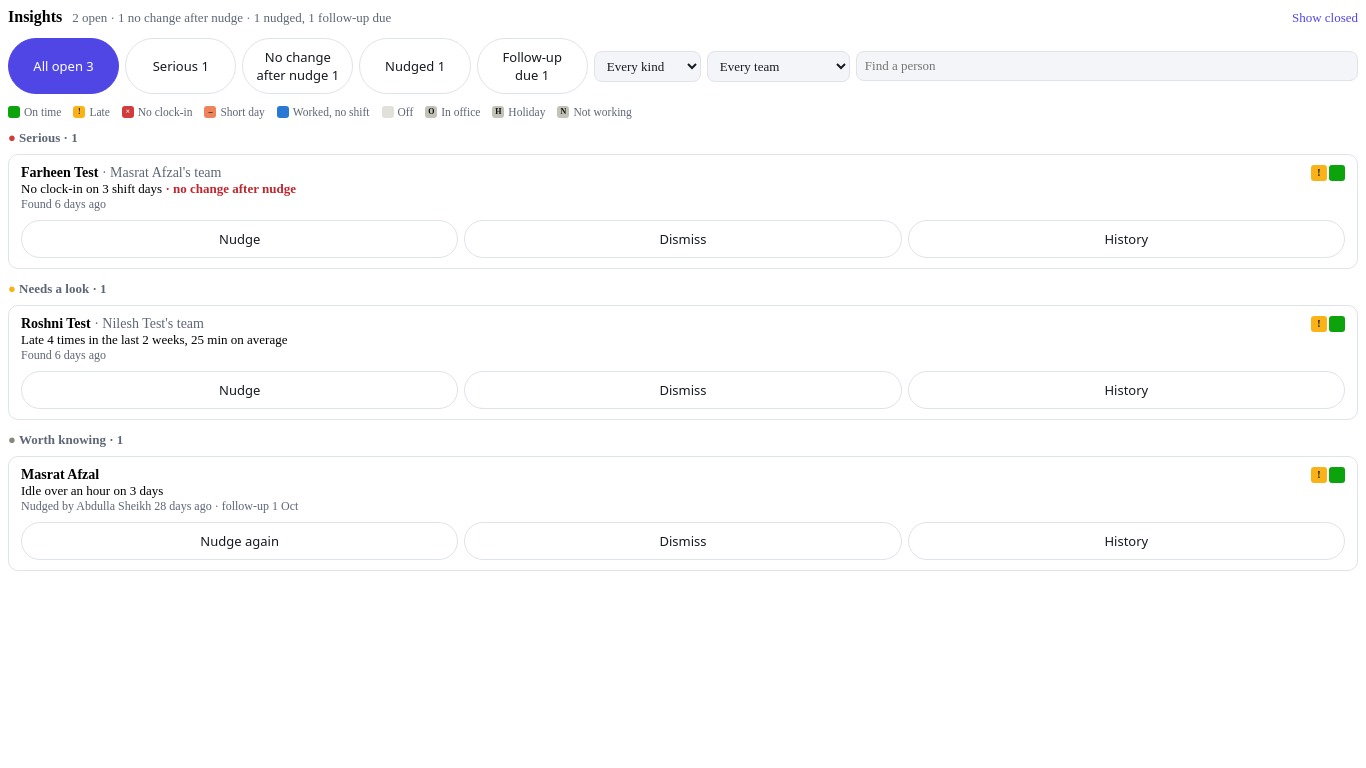
Test case: Insights inbox (ADR-0047 §4) › nudge: the draft, edited and sent; the card shows the follow-up
Click the button "Nudge" below "Roshni Test" at (240,390), box [21,371,458,409]
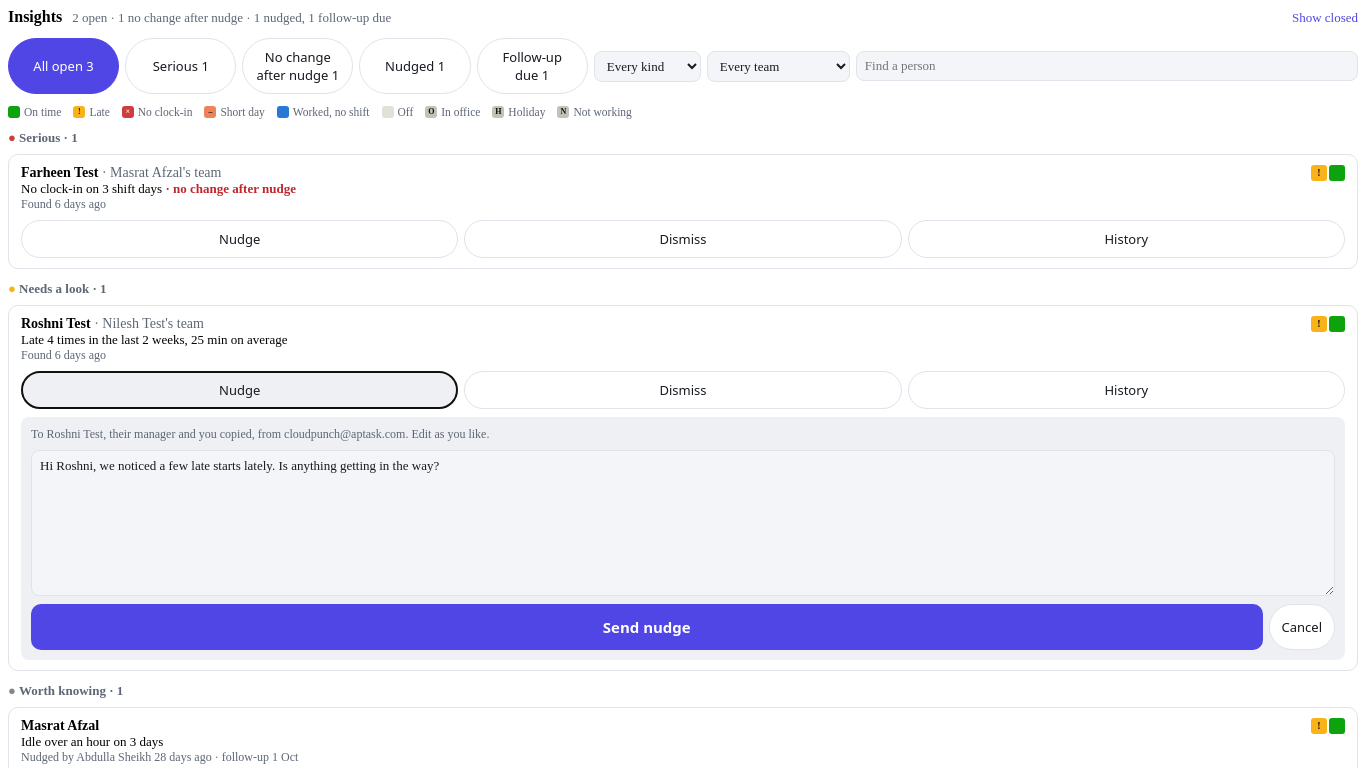
Check: the text box named "nudge-message" holds "Hi Roshni, we noticed a few late starts lately. Is anything getting in the way?"
Replace the text in the text box named "nudge-message" with "short" at (683,523), box [31,450,1335,596]
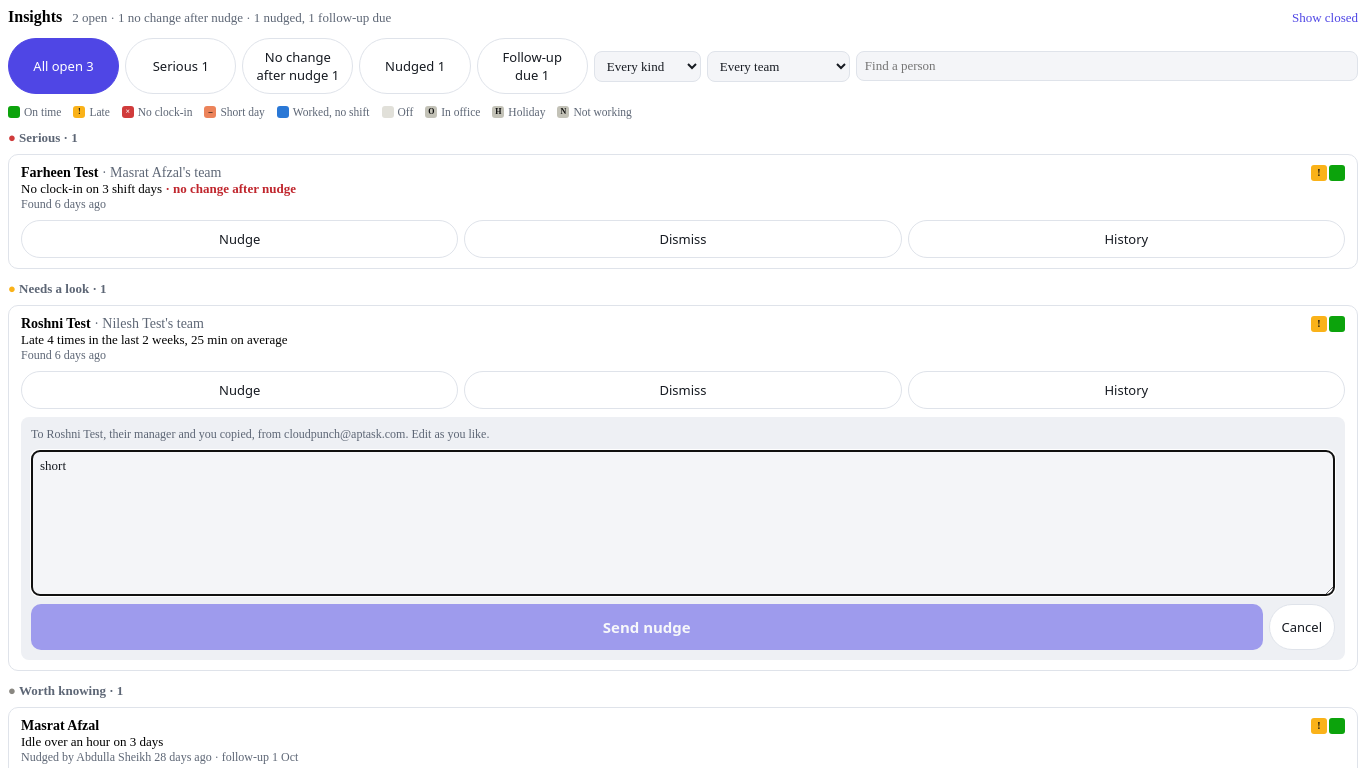
Check: the button "Send nudge" is disabled, box [31,604,1262,650]
Type " but now long enough" into the text box named "nudge-message" at (683,523), box [31,450,1335,596]
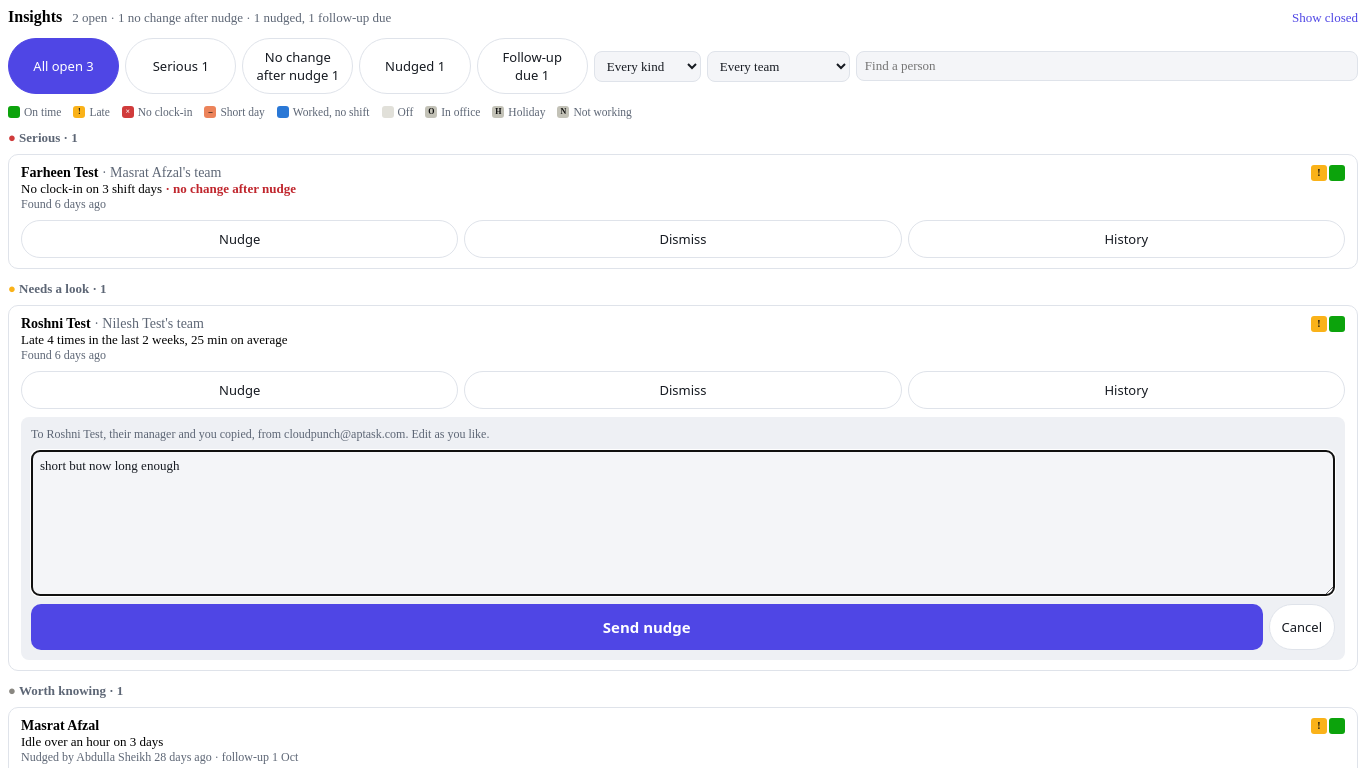
Click the button "Send nudge" at (647,627), box [31,604,1262,650]
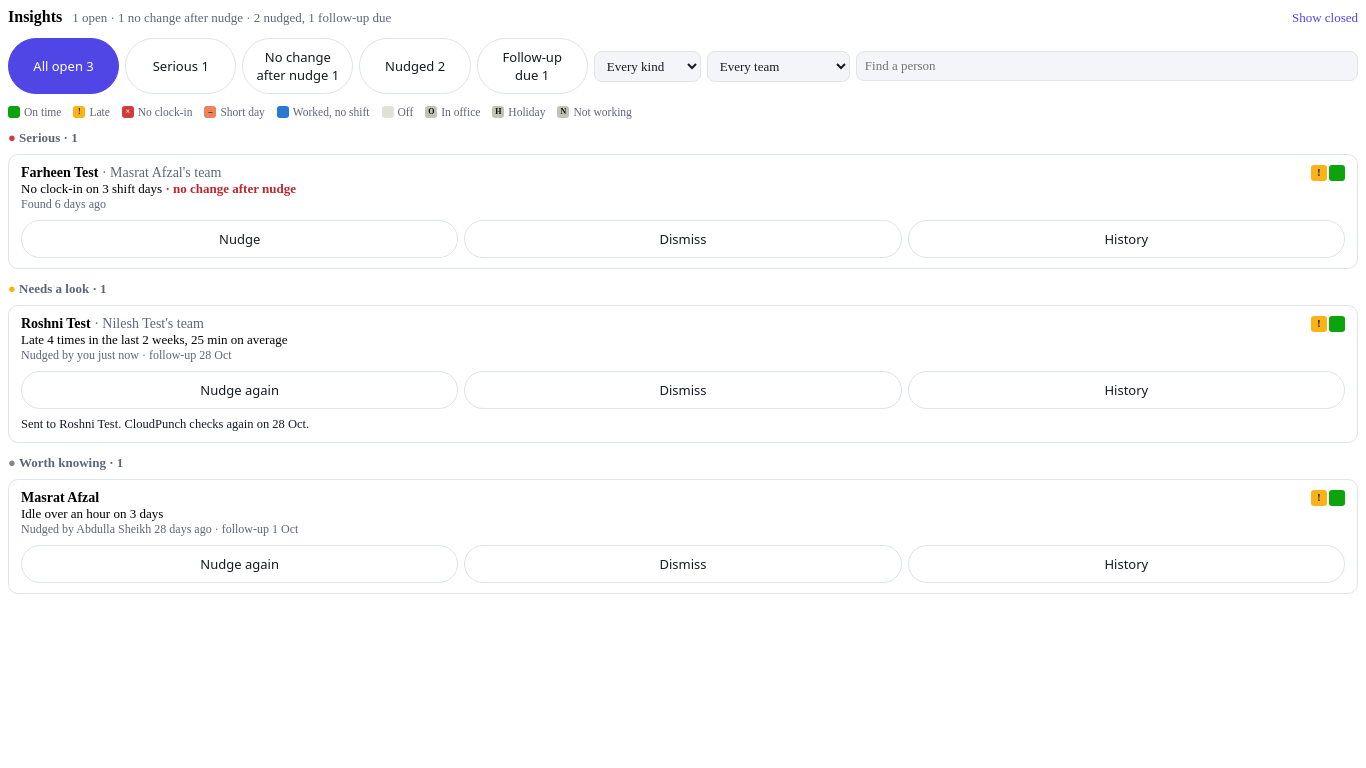
Check: the list item with aria-label "finding Roshni Test" shows "Sent to Roshni Test. CloudPunch checks again on 28 Oct.", box [21,417,309,431]
Check: the list item with aria-label "finding Roshni Test" shows "follow-up 28 Oct", box [21,348,232,362]
Check: the button "Nudge again" below "Nilesh Test" is shown, box [21,371,458,409]
